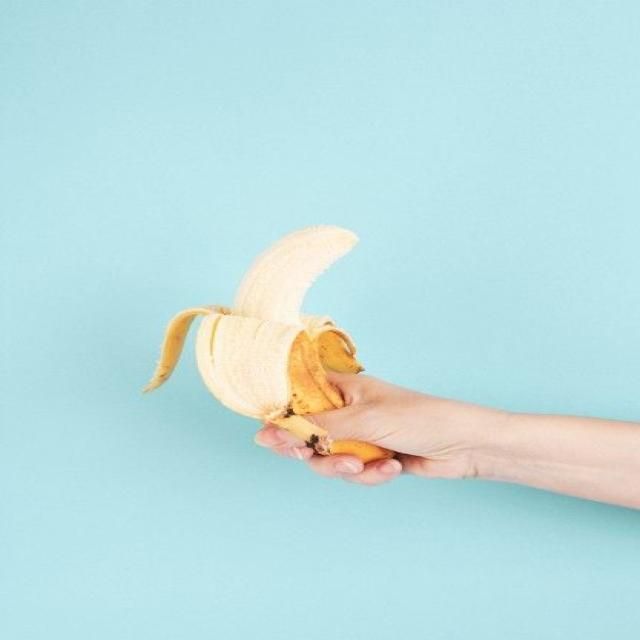banana: (143, 226, 392, 462)
